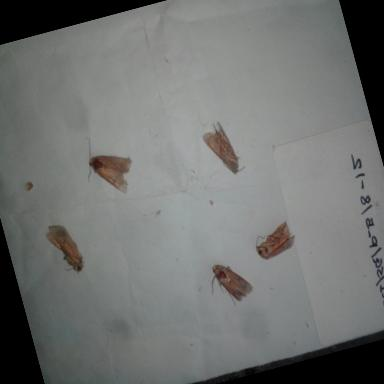abw: (74, 122, 148, 208), (195, 113, 251, 188), (200, 252, 262, 316), (40, 210, 92, 284), (248, 216, 302, 270)
